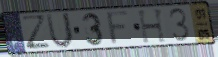3: (80, 11, 106, 48), (168, 7, 191, 43)
F: (105, 9, 132, 47)
H: (136, 7, 169, 45)
U: (45, 11, 76, 51)
Z: (19, 15, 53, 52)
